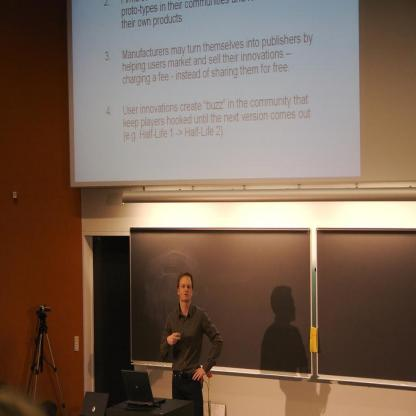board: (120, 369, 166, 407), (80, 392, 108, 416)
